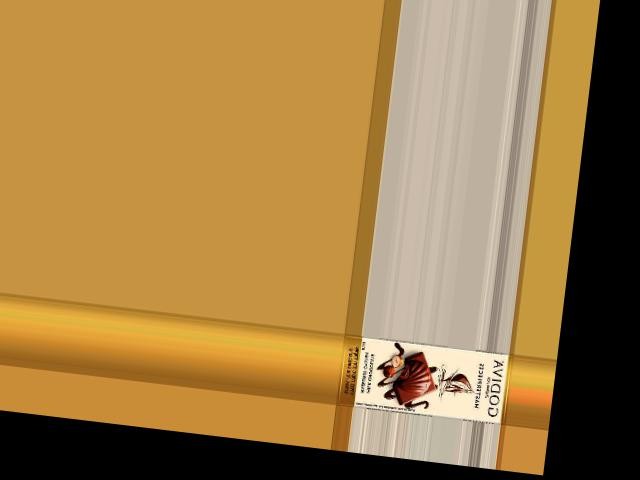chocolate: (336, 334, 513, 424)
